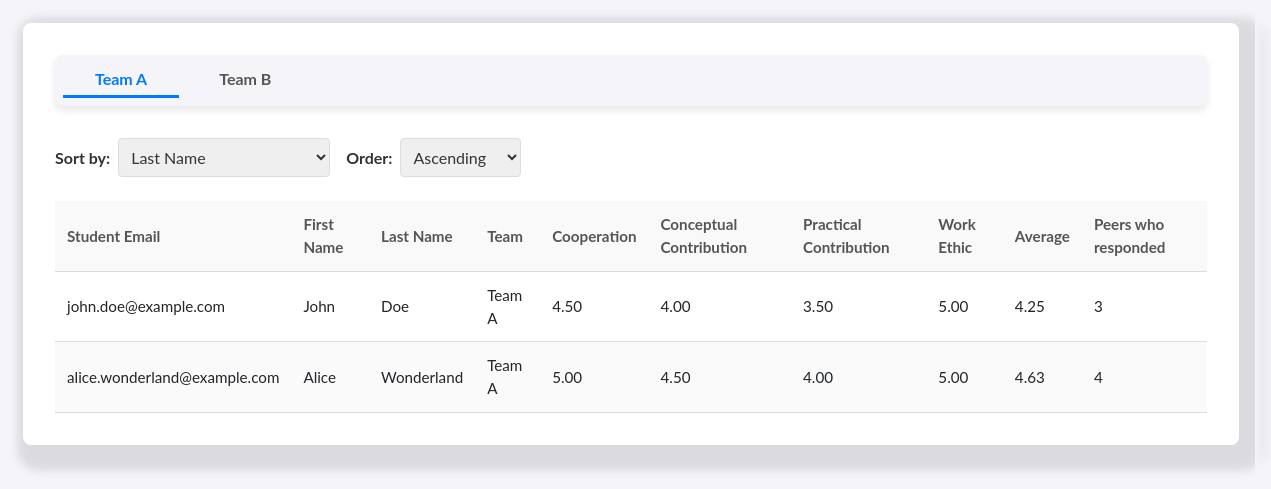
Test: SummaryView Component › handles sorting of student data based on selected criteria and direction
Check: the text "john.doe@example.com" is shown, box [55,271,291,342]
Check: the text "alice.wonderland@example.com" is shown, box [55,342,291,412]
Select "Cooperation" in the 1st dropdown at [224, 158], box [118,138,330,177]
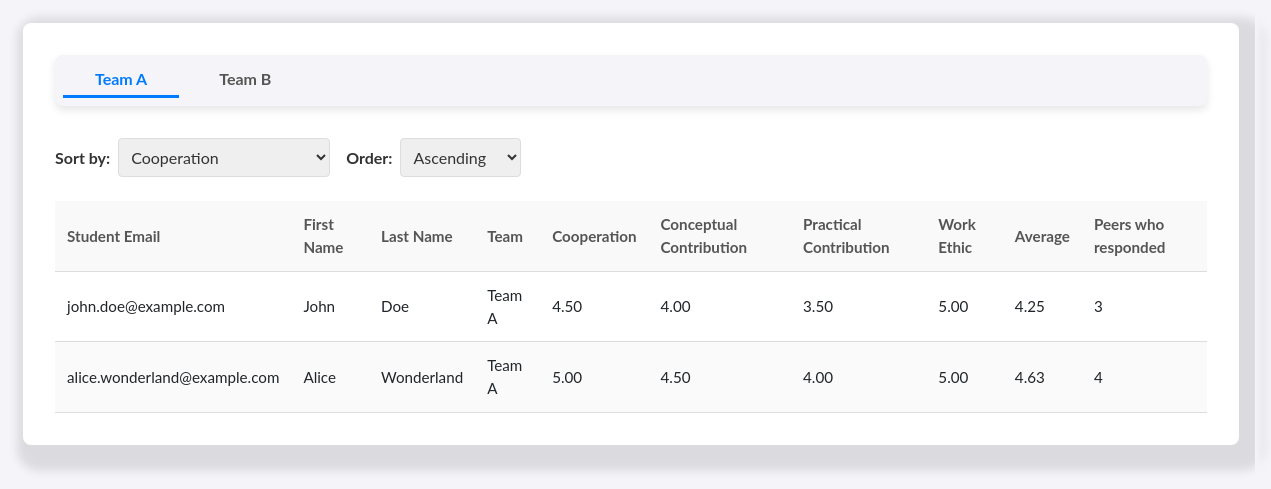
Select "Descending" in the 2nd dropdown at [461, 158], box [400,138,521,177]
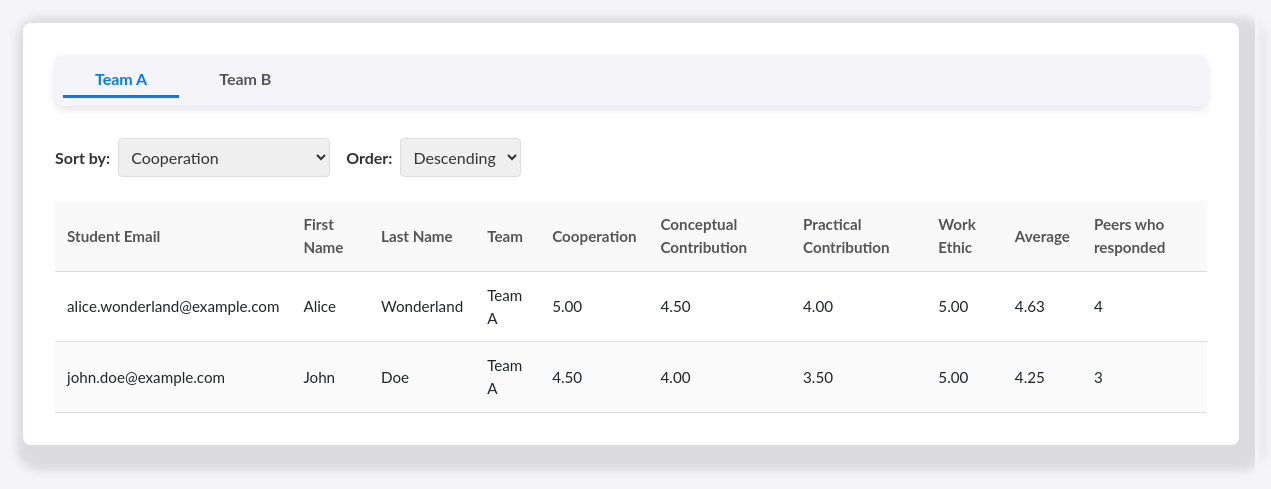
Check: the text "alice.wonderland@example.com" is shown, box [55,271,291,342]
Check: the text "john.doe@example.com" is shown, box [55,342,291,412]
